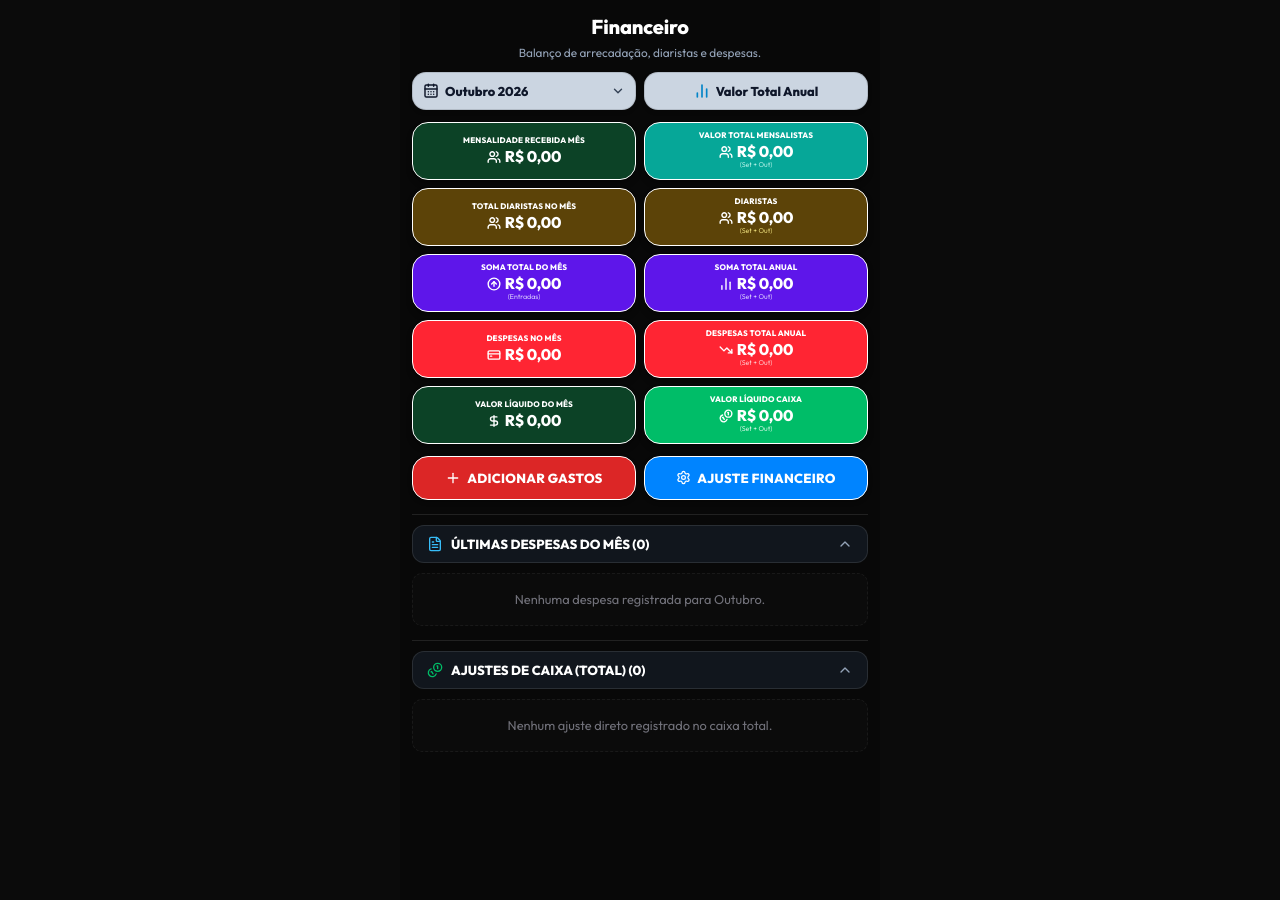
Financeiro Component — RDA Reprodução Fiel do Layout Mobile › ETAPA 5 — Botões Inferiores (Adicionar Gastos e Ajuste Financeiro) › deve abrir o modal de ajuste com opções Somar e Diminuir ao clicar em AJUSTE FINANCEIRO
Click the text "AJUSTE FINANCEIRO" at (766, 478), box [697,470,836,486]
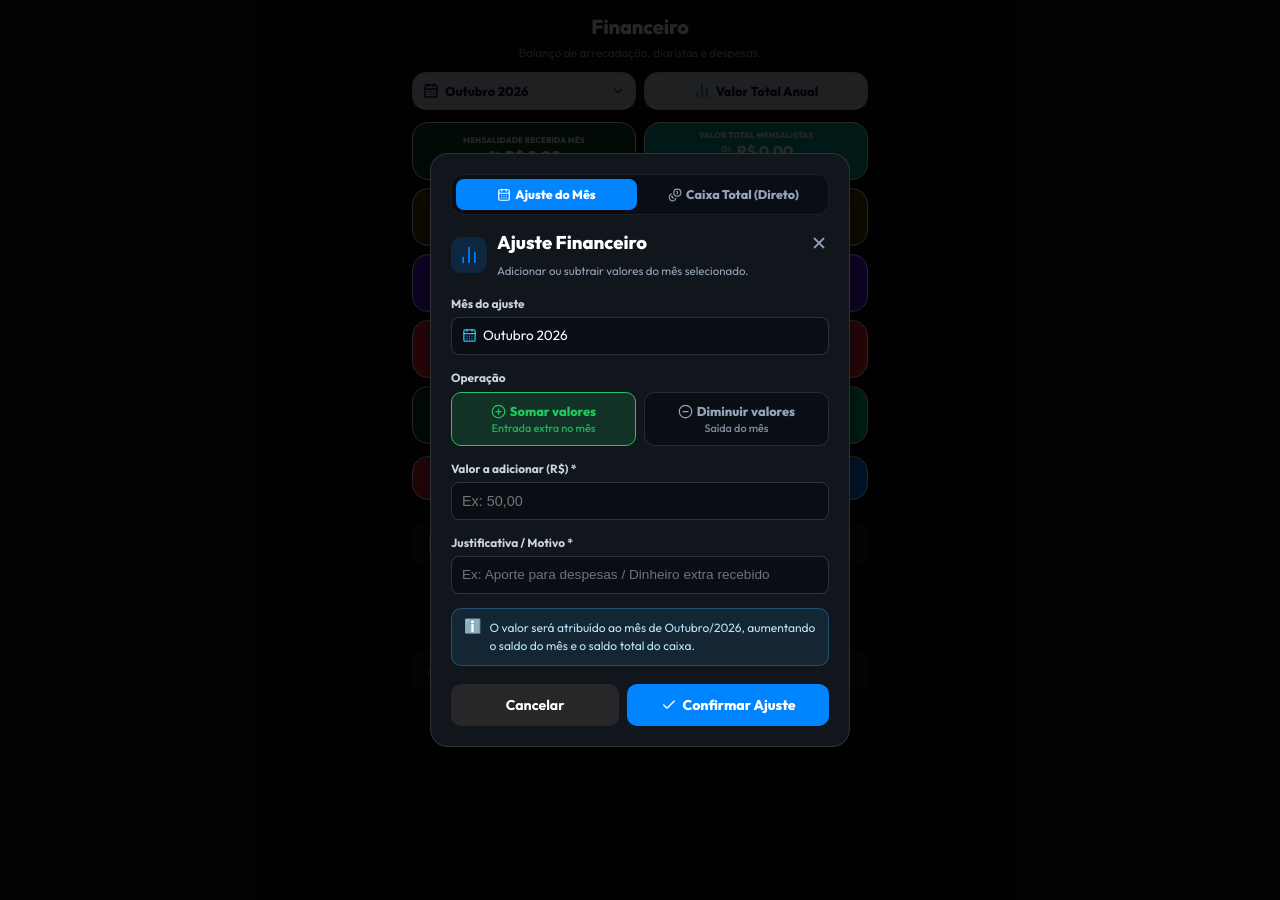
Expected: the text "Somar valores" is shown, [510,403,596,419]
Expected: the text "Diminuir valores" is shown, [697,403,795,419]
